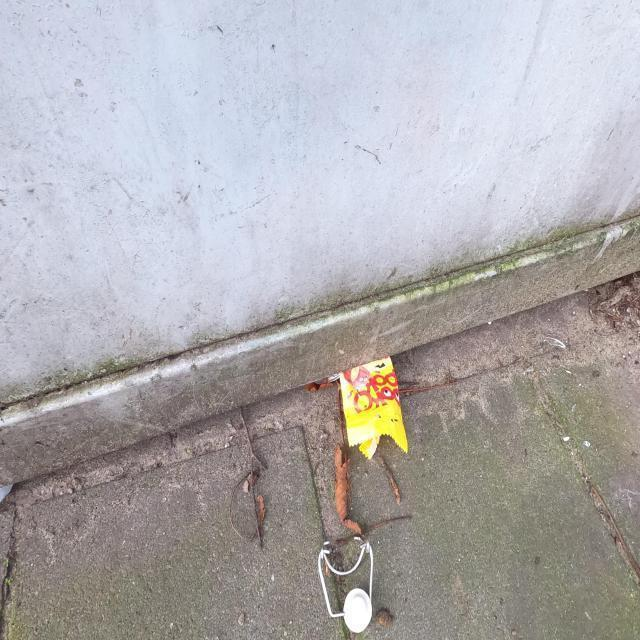Plastic: (340, 354, 408, 460)
